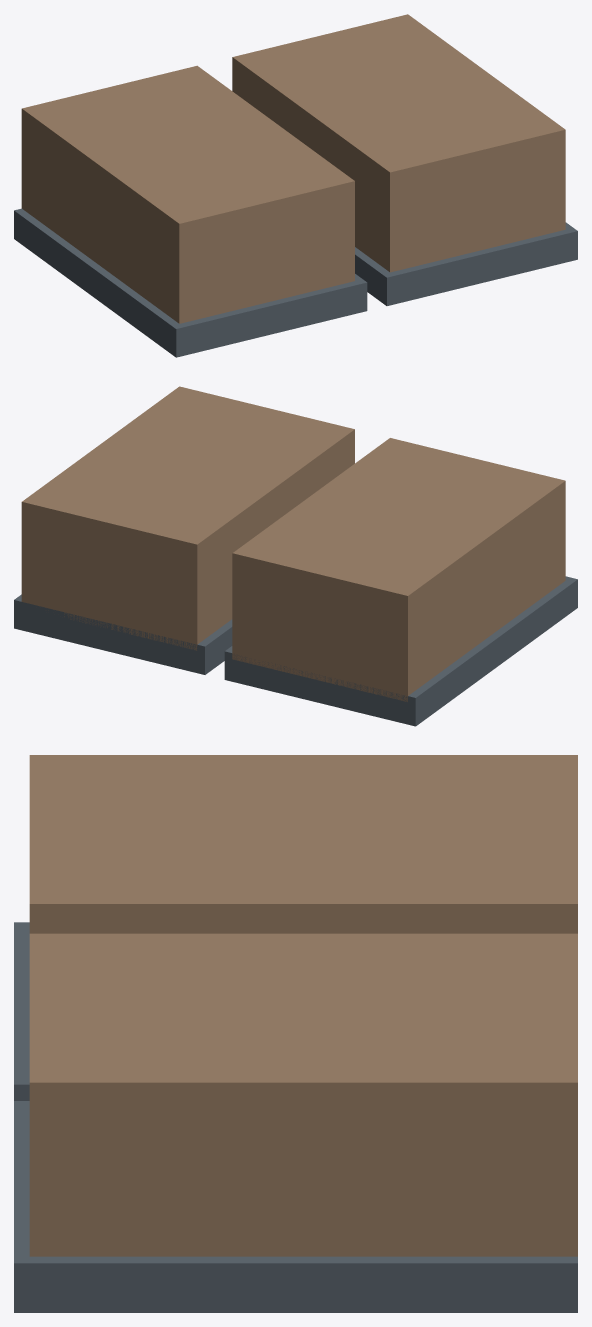
The model's file is boots_lod1.glb.
3 views of the same model, one above another, from view 1: azimuth 30°, elevation 25°; view 2: azimuth 150°, elevation 25°; view 3: azimuth 270°, elevation 25° (orthographic). The views are drawn at different scales.
Visible parts, largest first — view 1: part_0, part_2, part_1, part_3; view 2: part_0, part_2, part_1, part_3; view 3: part_2, part_0, part_3, part_1.
Part boxes in pixels (bbox=[...]): part_0: bbox=[21, 65, 354, 323]; part_2: bbox=[232, 14, 565, 272]; part_1: bbox=[14, 208, 367, 357]; part_3: bbox=[355, 222, 577, 305]; part_0: bbox=[232, 438, 565, 701]; part_2: bbox=[21, 386, 354, 650]; part_1: bbox=[224, 576, 577, 726]; part_3: bbox=[14, 594, 232, 674]; part_2: bbox=[29, 933, 577, 1256]; part_0: bbox=[29, 755, 577, 933]; part_3: bbox=[14, 1101, 577, 1312]; part_1: bbox=[14, 922, 29, 1100].
Bounding box in the file's own units: 1.03 × 0.315 × 0.72.
